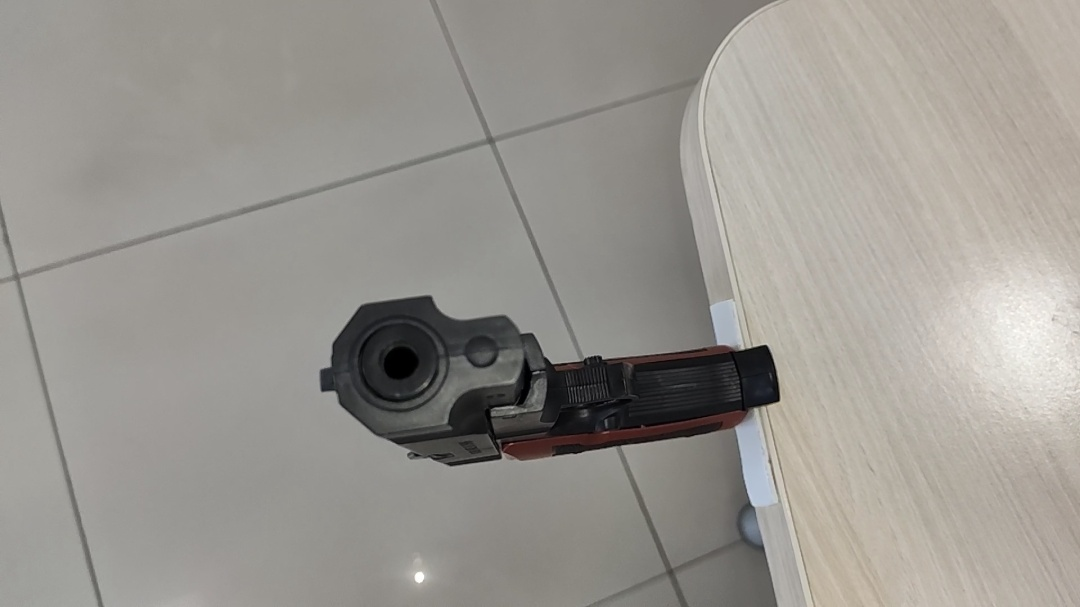gun: (381, 253, 423, 273)
